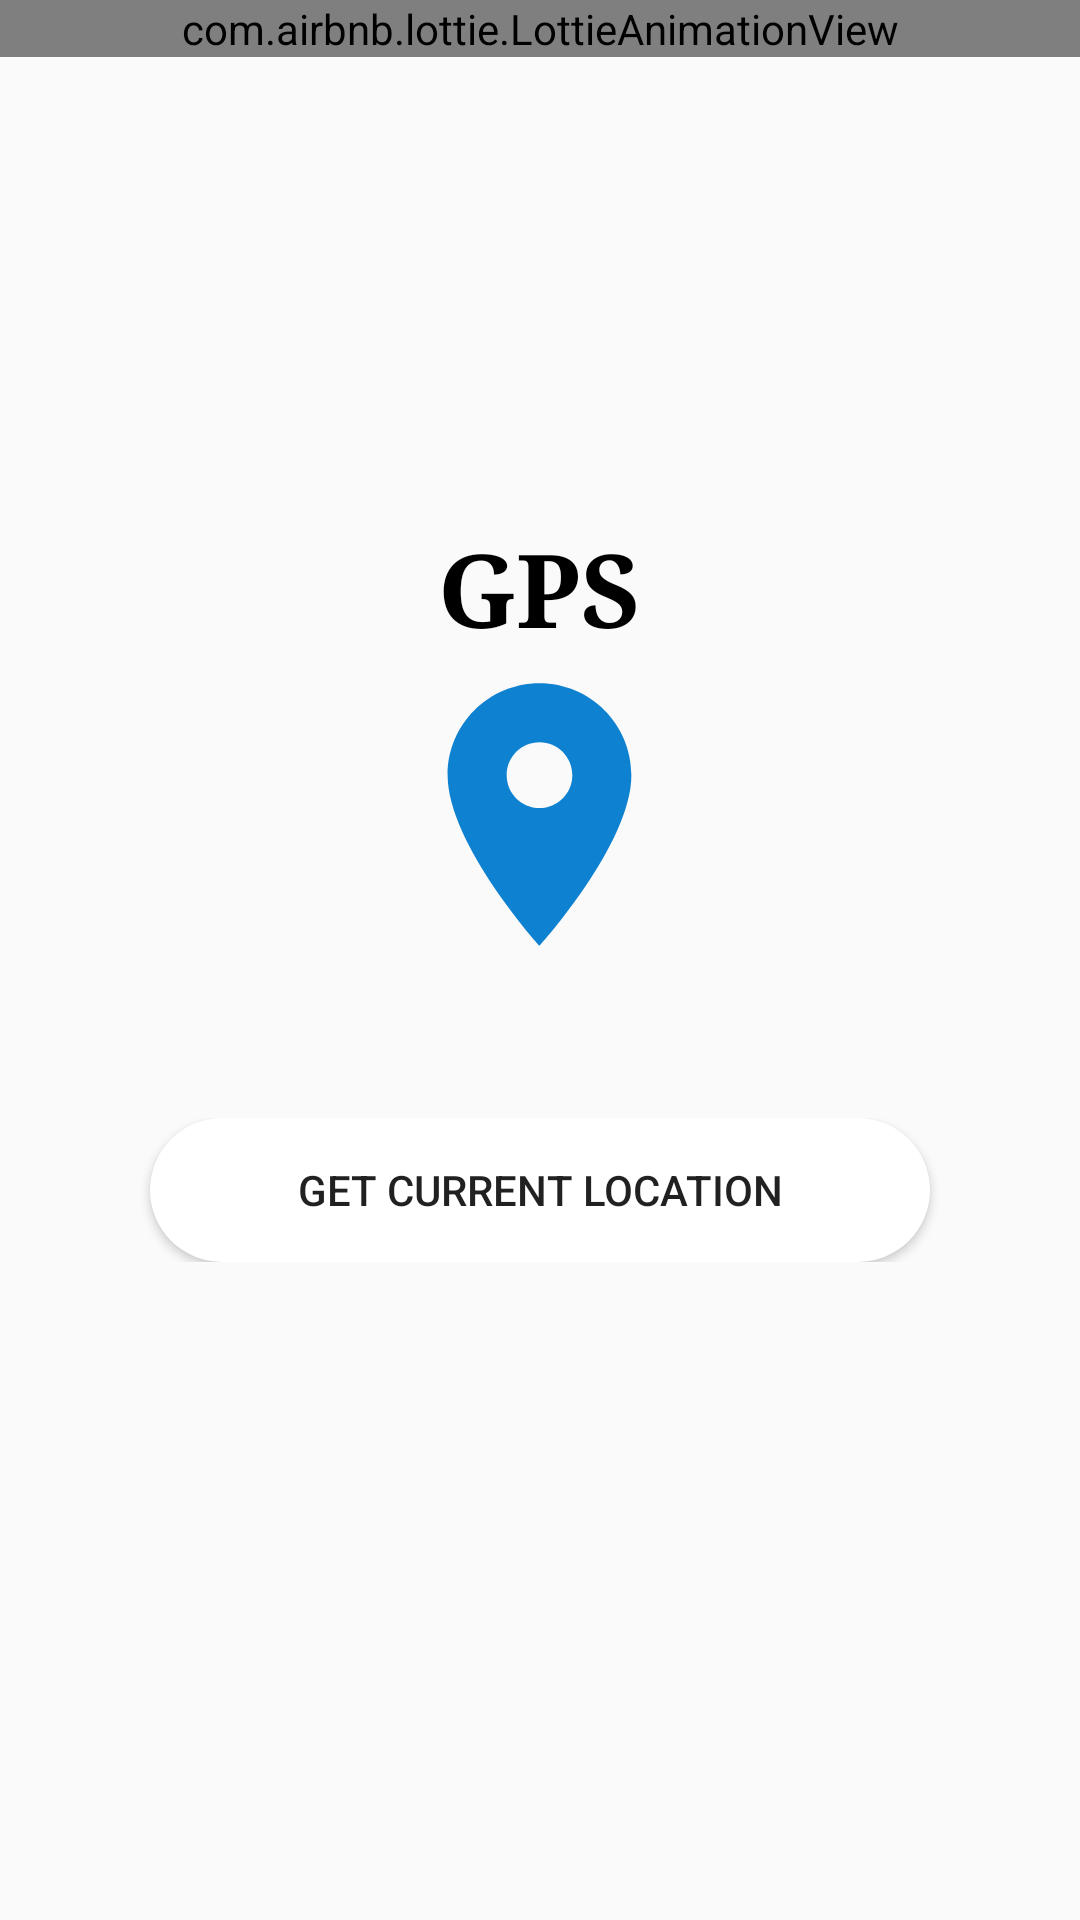

Named icons in this screenshot (1080px×1920px) and their centers, [x,y]:
location on: [539,814]
